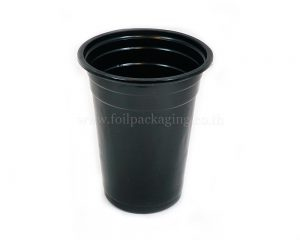plastic_glass: (71, 23, 223, 224)
